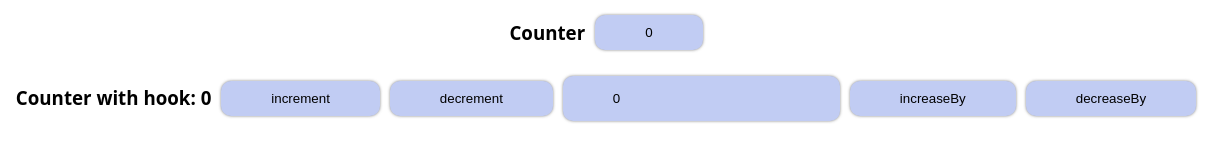
Test: counter page › test increment
Click the button "0" at (649, 33), box [595,15,702,50]
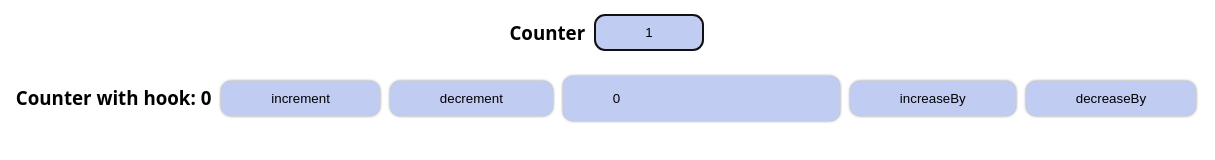
Expected: the button "1" is shown, [595,15,702,50]
